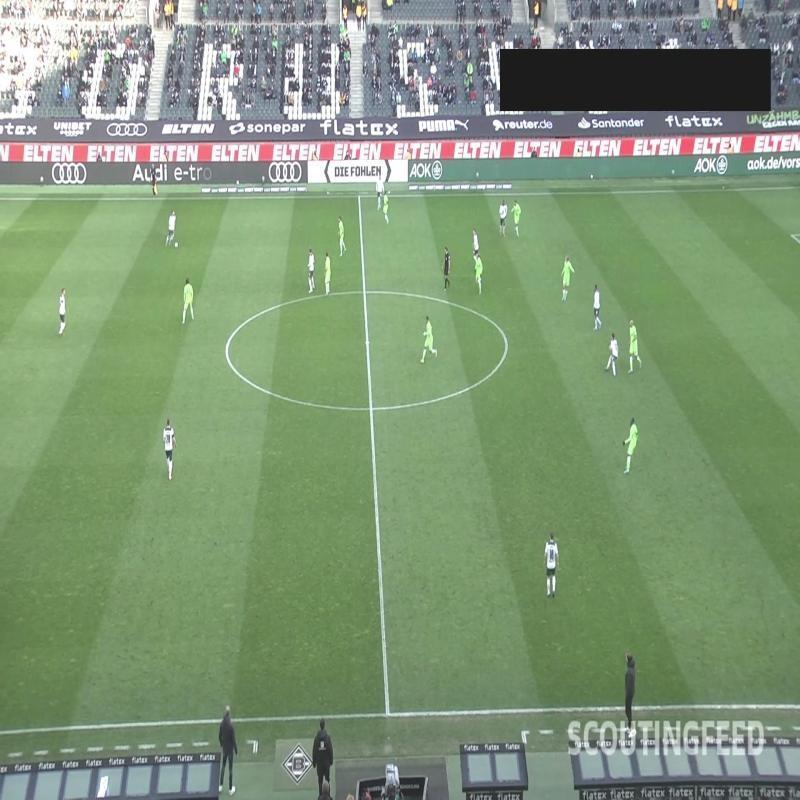13: (351, 188, 365, 202)
14: (356, 284, 370, 297)
15: (362, 400, 376, 415)
16: (379, 704, 397, 724)
9: (786, 227, 800, 241)
c: (215, 341, 236, 358), (499, 336, 513, 349)
